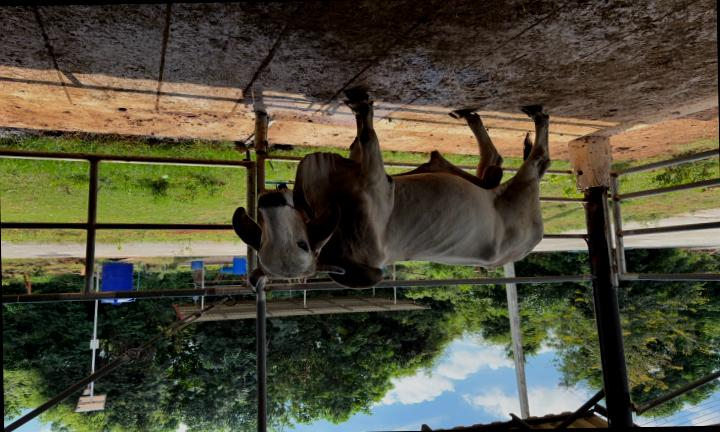Brahman: (232, 91, 549, 289)
